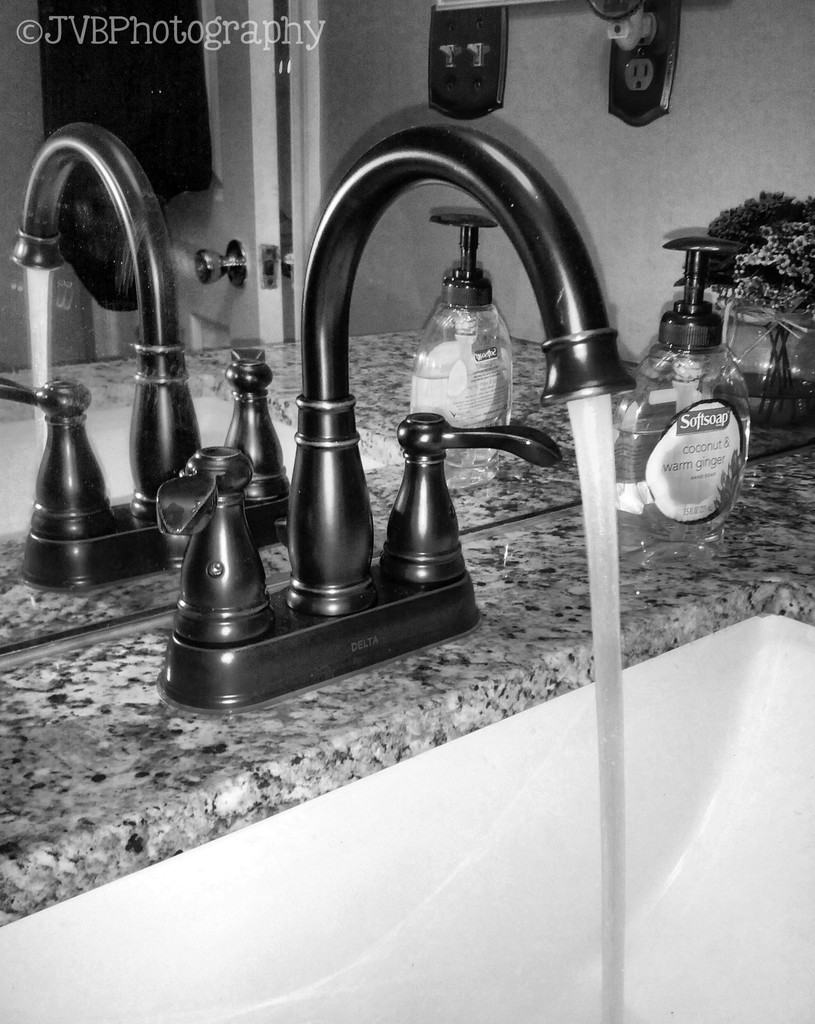tap: (287, 128, 637, 622)
